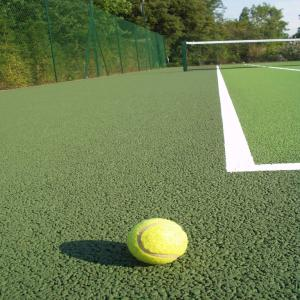TennisBall: (128, 219, 188, 267)
